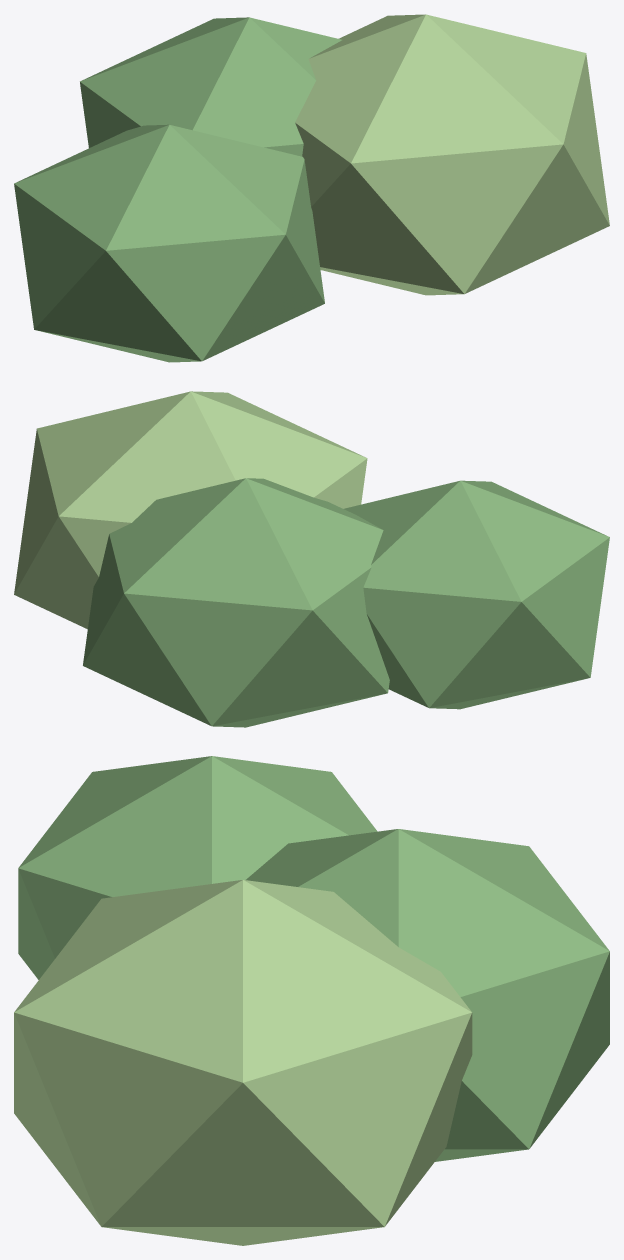
Rendered from Foliage.fbx.
The picture shows the model from 3 angles, top to bottom: view 1: azimuth 30°, elevation 25°; view 2: azimuth 150°, elevation 25°; view 3: azimuth 270°, elevation 25°; orthographic projection. The views are drawn at different scales.
Parts seen in each view (by area): view 1: Foliage.001; view 2: Foliage.001; view 3: Foliage.001.
Part boxes in pixels (<box>): Foliage.001: <box>14,14,609,362</box>; Foliage.001: <box>14,391,609,727</box>; Foliage.001: <box>14,756,609,1245</box>.
Bounding box in the file's own units: 81.93 × 39 × 57.53.
